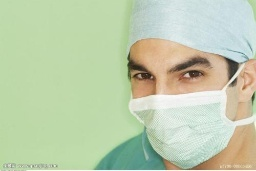correctlyWear: (125, 45, 256, 171)
